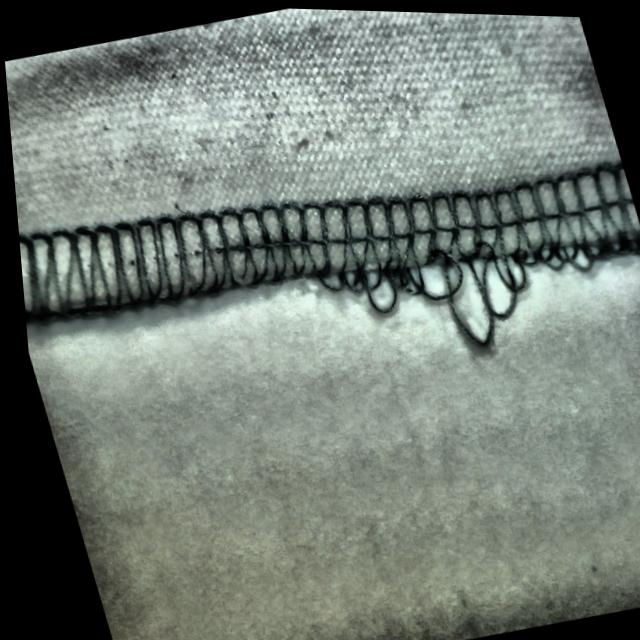Stitch: (289, 131, 640, 376)
